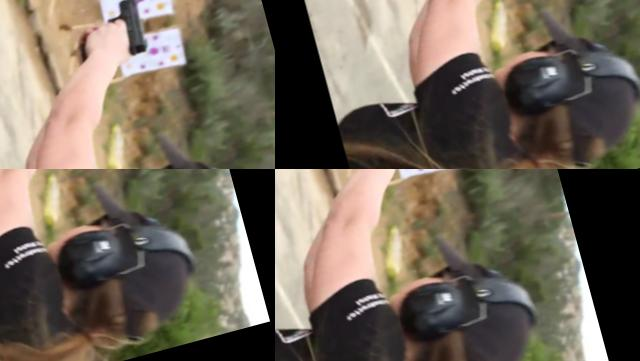handgun: (0, 0, 275, 169), (0, 169, 159, 361), (550, 0, 617, 57), (344, 169, 431, 209)
